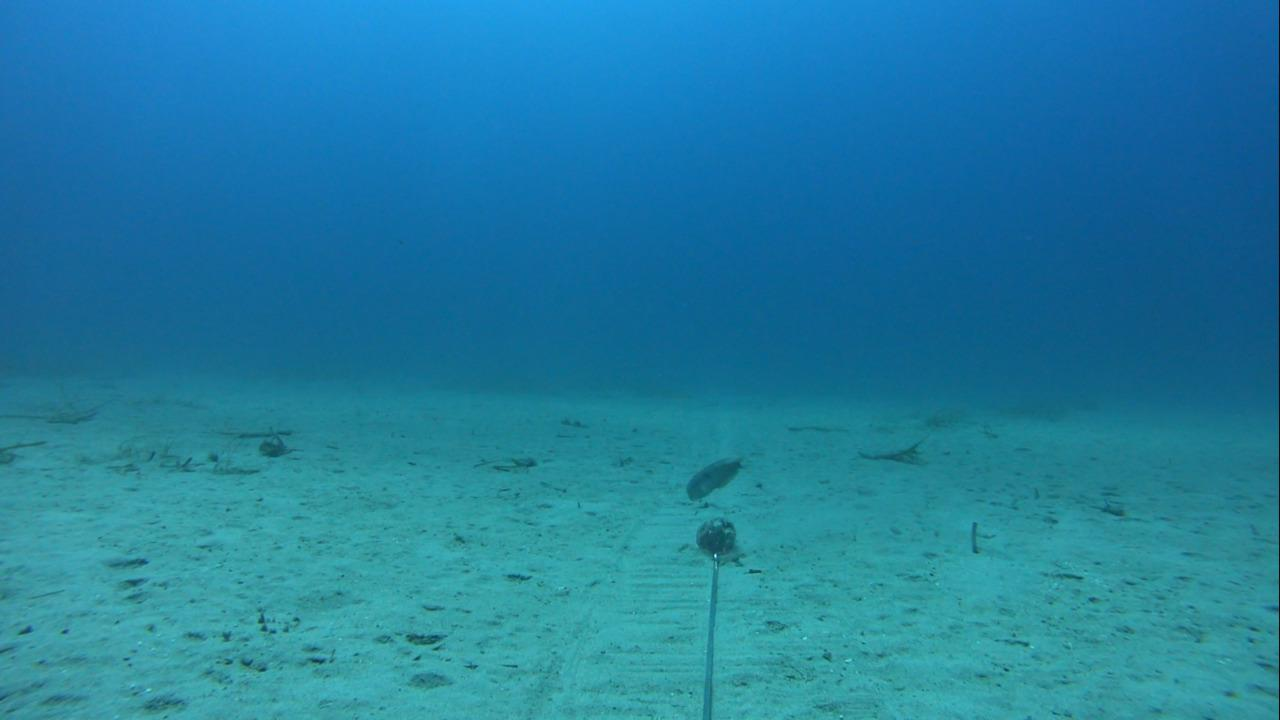raor: (682, 451, 746, 502)
